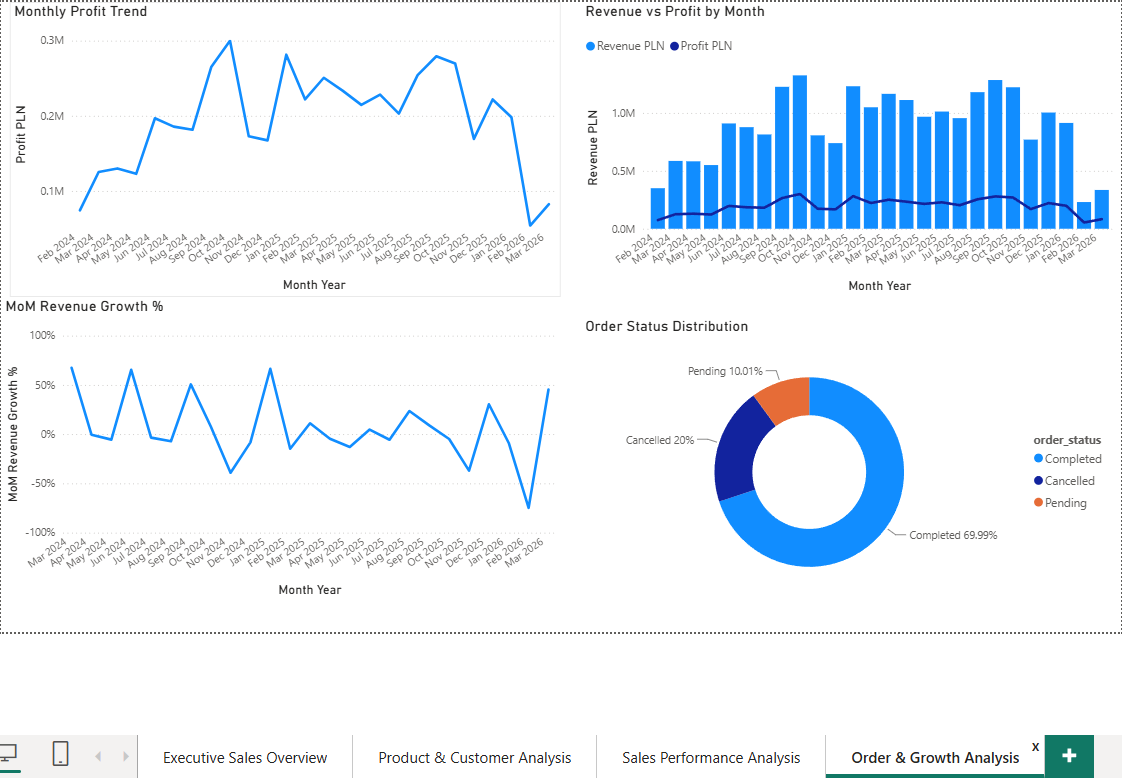

What the dashboard file says about the page in this screenshot:
{"tool":"powerbi","page":{"name":"Order & Growth Analysis","canvas":[1280,720],"ordinal":3},"visuals":[{"type":"lineChart","title":"Monthly Profit Trend","fields":{"Category":["sales_details.Month Year"],"Y":["sales_details.Profit PLN"]},"box":[10,0,630,336.7],"z":0},{"type":"lineClusteredColumnComboChart","title":"Revenue vs Profit by Month","fields":{"Category":["sales_details.Month Year"],"Y":["sales_details.Revenue PLN"],"Y2":["sales_details.Profit PLN"]},"box":[663.3,0,616.7,336.7],"z":1000},{"type":"lineChart","title":"MoM Revenue Growth %","fields":{"Category":["sales_details.Month Year"],"Y":["sales_details.MoM Revenue Growth %"]},"box":[0,337.1,640,347.1],"z":2000},{"type":"donutChart","title":"Order Status Distribution","fields":{"Category":["sales_details.order_status"],"Y":["CountNonNull(sales_details.order_id)"]},"box":[662.9,360,617.1,324.3],"z":3000}]}

Visuals, with their boxes on the page's 1280x720 design canvas (x1, y1, x2, y2). These are canvas units, not pixel positions in the 1122x778 screenshot, which may show the page scaled, cropped or inside an application window:
"Monthly Profit Trend" lineChart: 10 0 640 337
"Revenue vs Profit by Month" lineClusteredColumnComboChart: 663 0 1280 337
"MoM Revenue Growth %" lineChart: 0 337 640 684
"Order Status Distribution" donutChart: 663 360 1280 684
